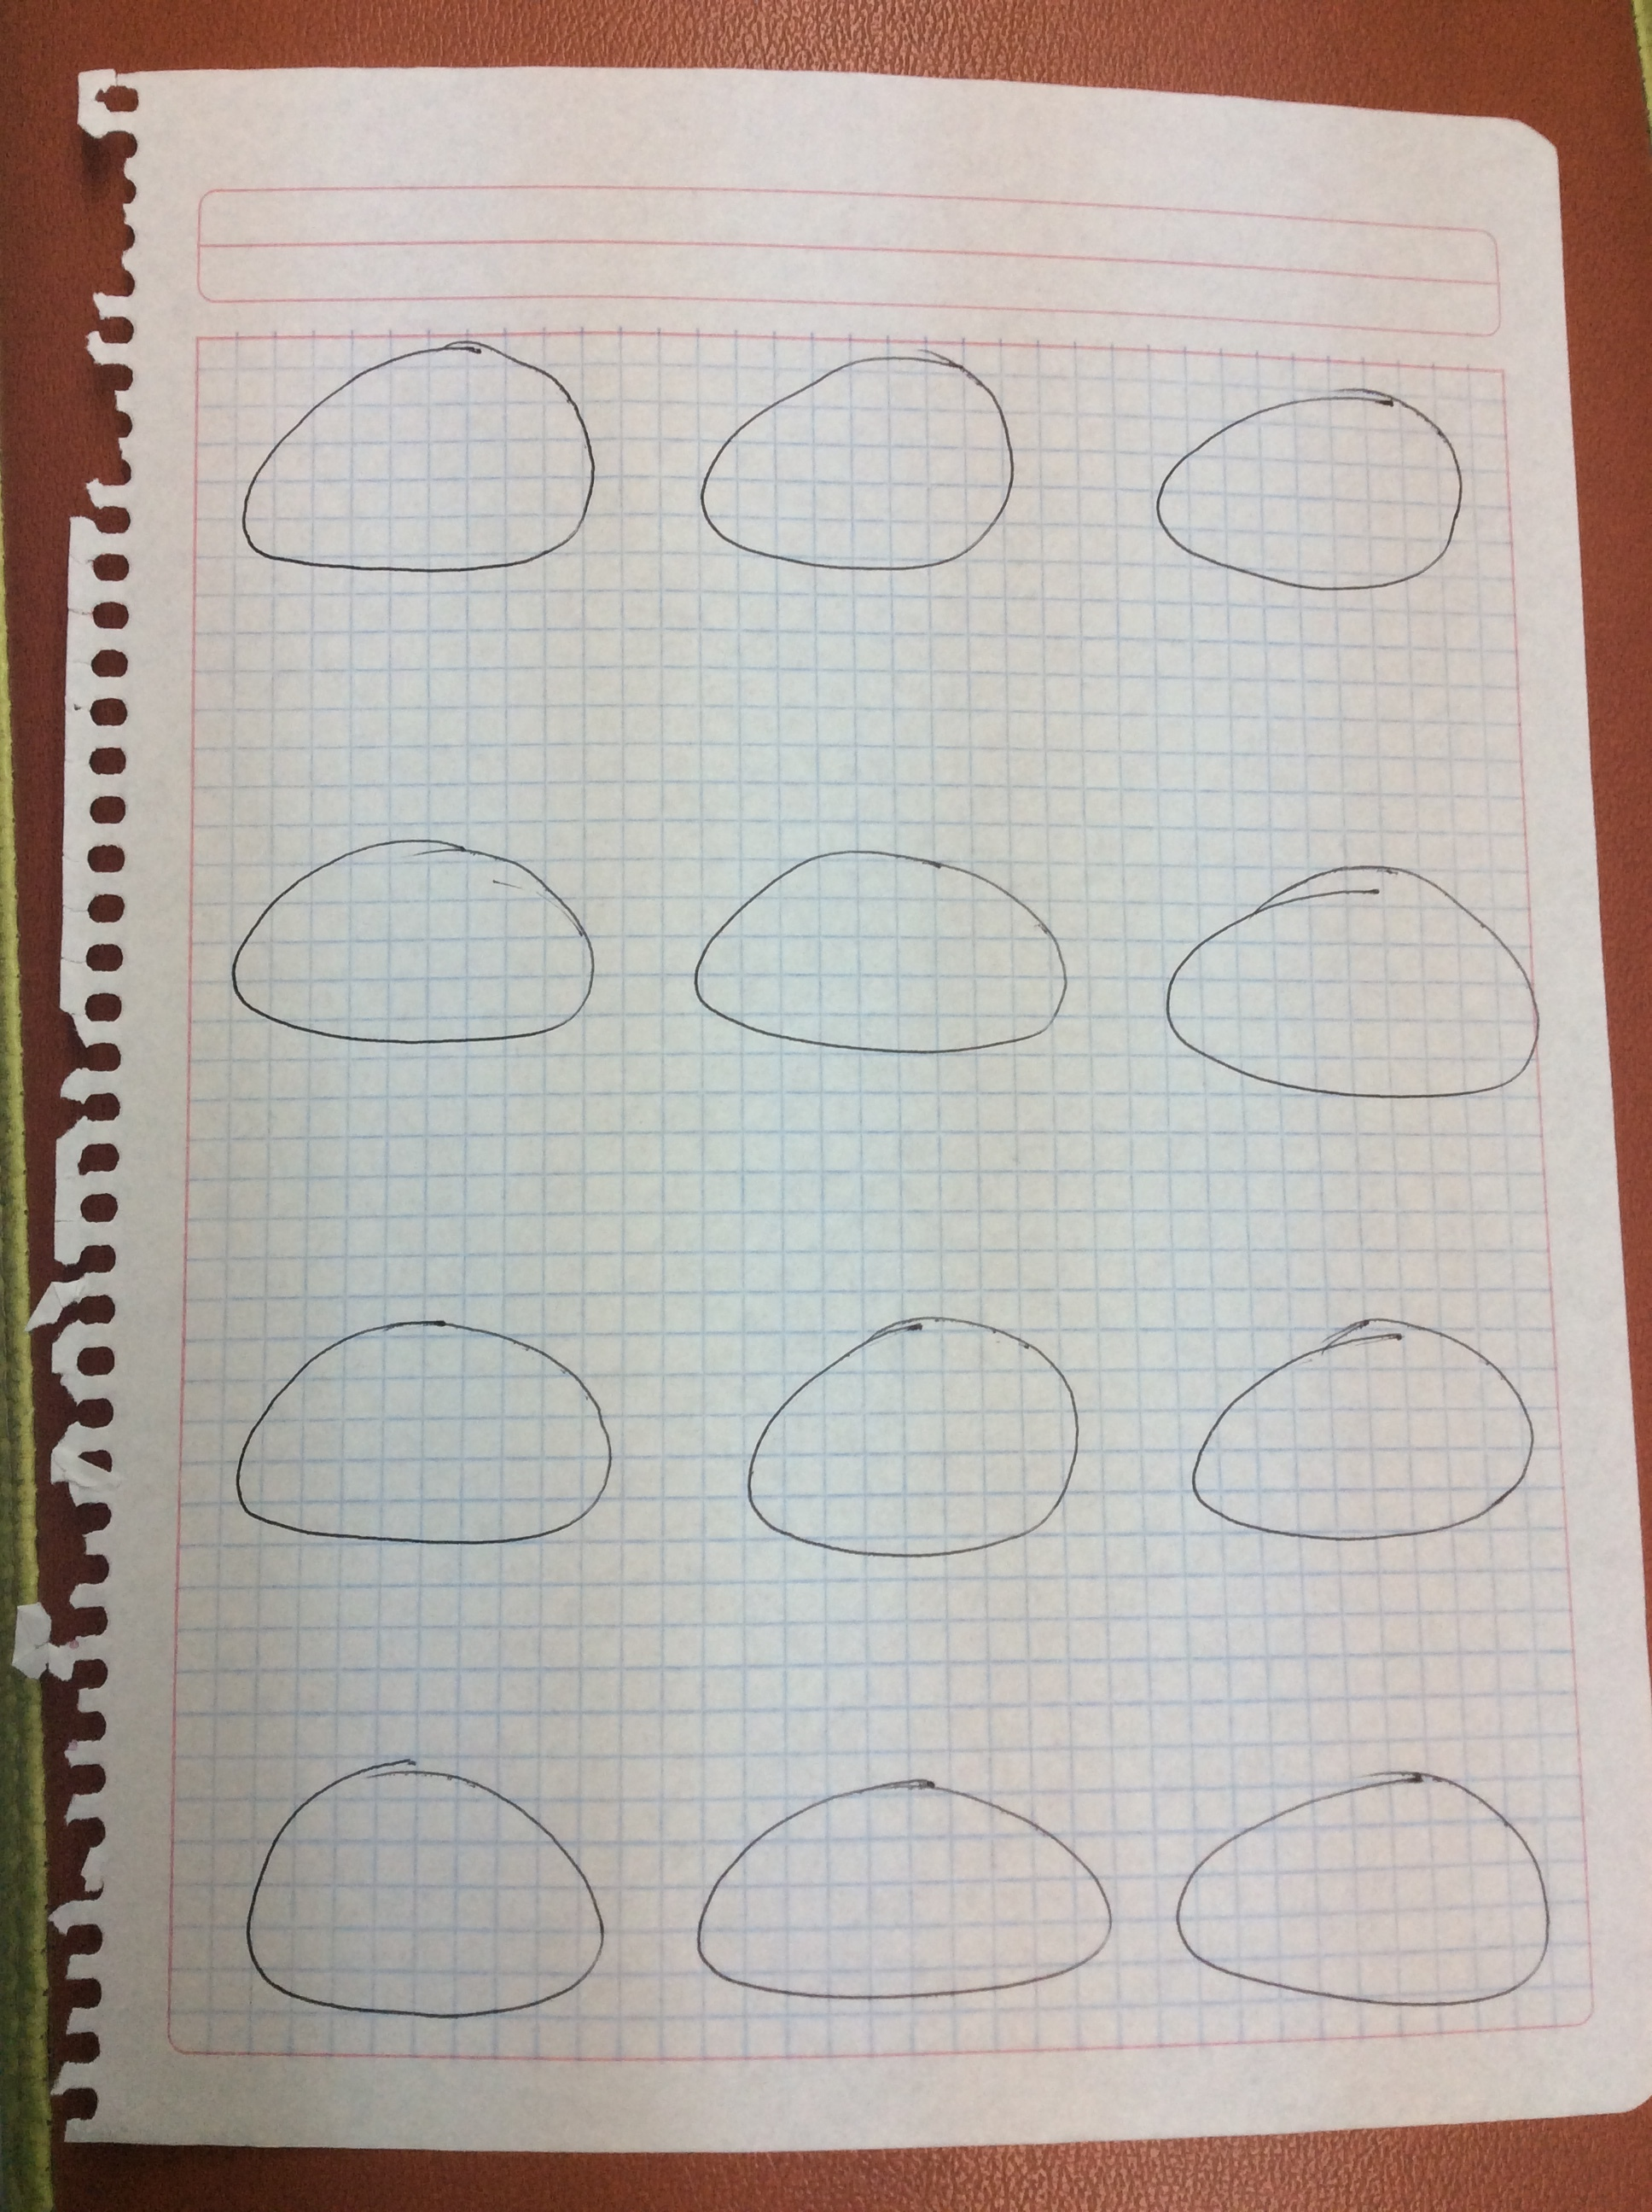start_end: (179, 1735, 623, 2054), (665, 1761, 1128, 2052), (1128, 829, 1562, 1133), (1149, 1751, 1583, 2042), (182, 1305, 640, 1574), (200, 314, 619, 593), (701, 1301, 1100, 1580), (658, 819, 1090, 1076), (1152, 1291, 1548, 1560), (1128, 335, 1491, 628), (193, 822, 630, 1062), (672, 307, 1029, 586)
